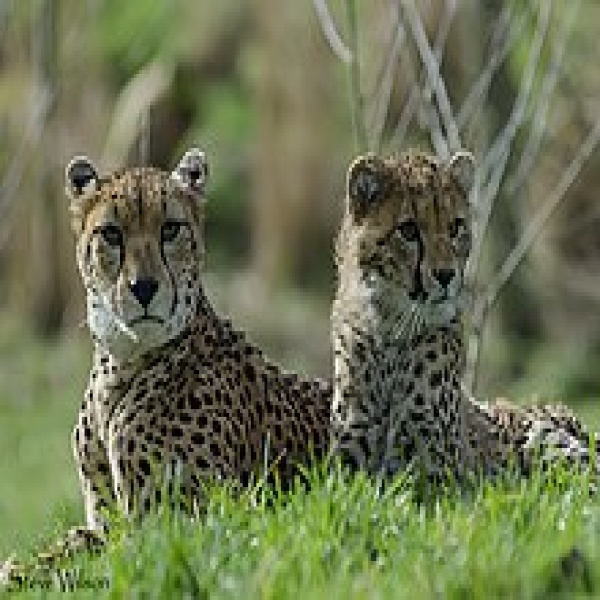Cheetah: (63, 142, 327, 531), (328, 144, 600, 505)
